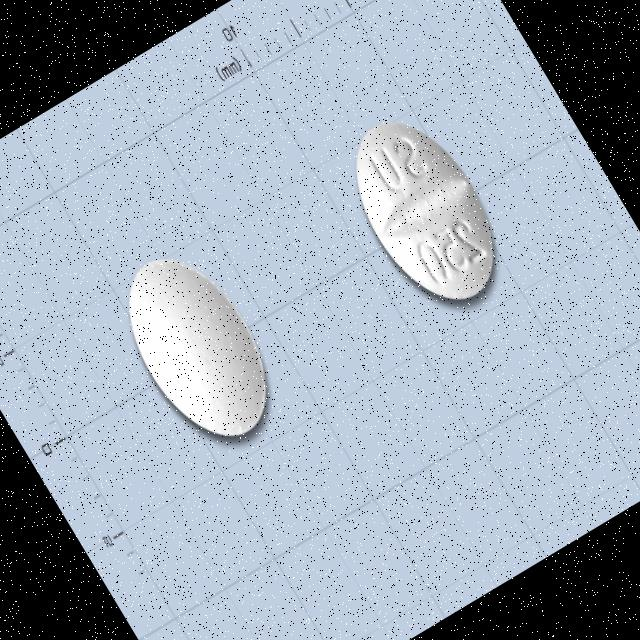Ciptec: (95, 229, 301, 464), (322, 94, 526, 330)
